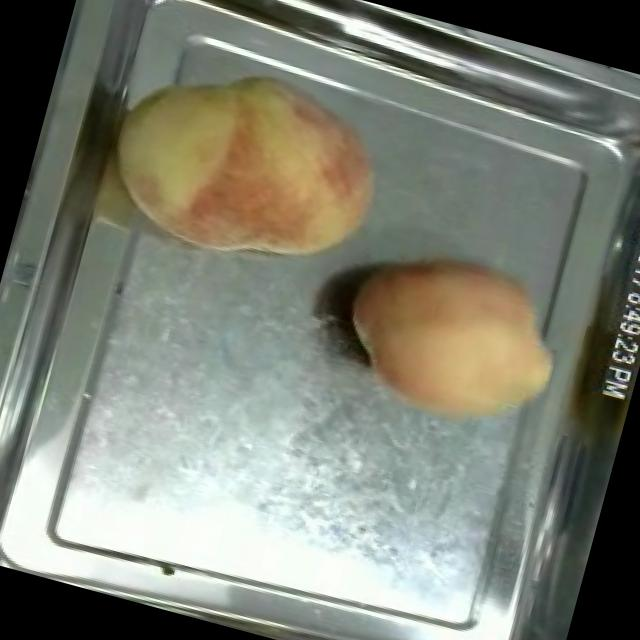Fruit: (89, 22, 412, 297), (318, 224, 582, 452)
